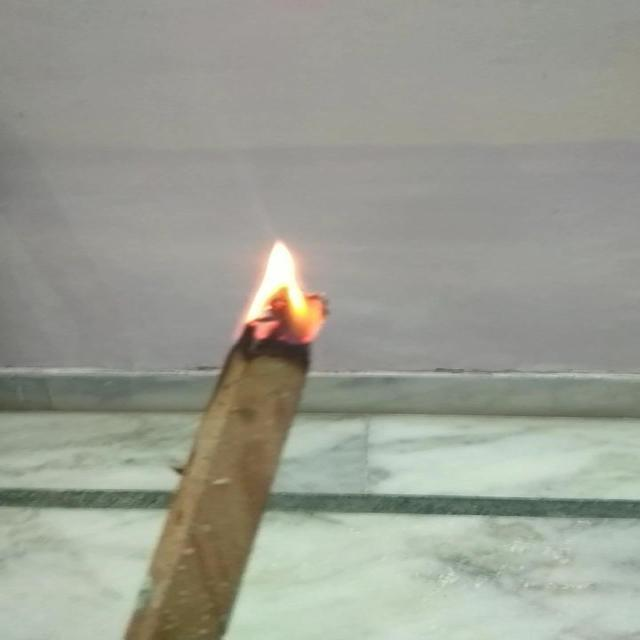smoke: (221, 234, 343, 348)
